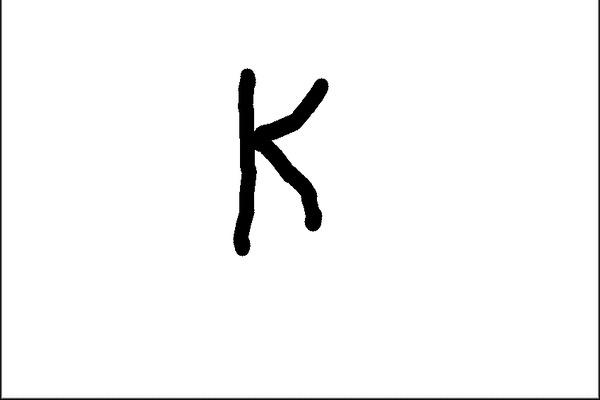K: (224, 64, 334, 257)
